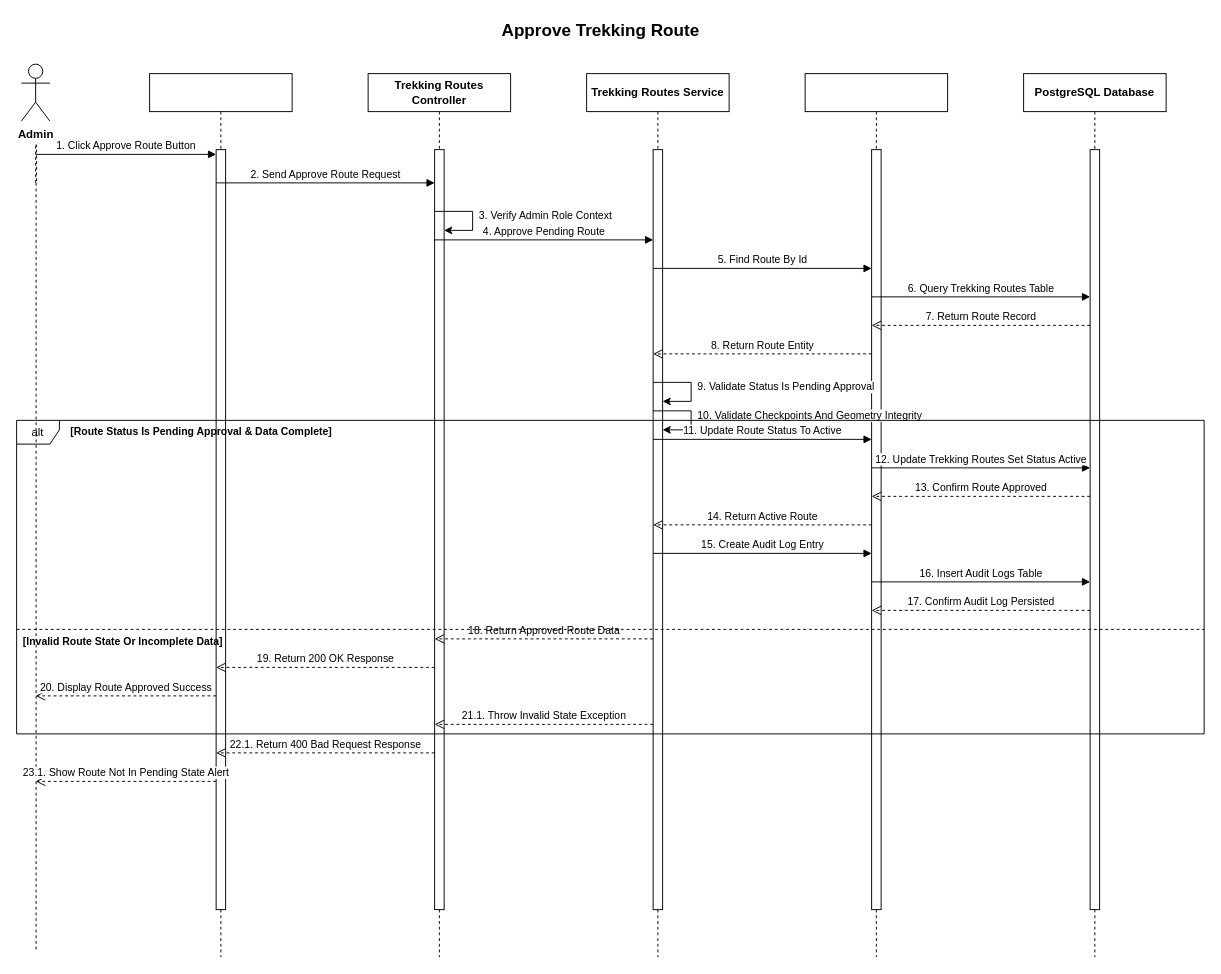
The diagram is 1221 pixels wide and 974 high, and some of its shapes have lost their labels. Each missing label, with the box of its shape:
Route Approval Screen: (149, 73, 292, 957)
Trekking Routes Model: (804, 73, 948, 957)
